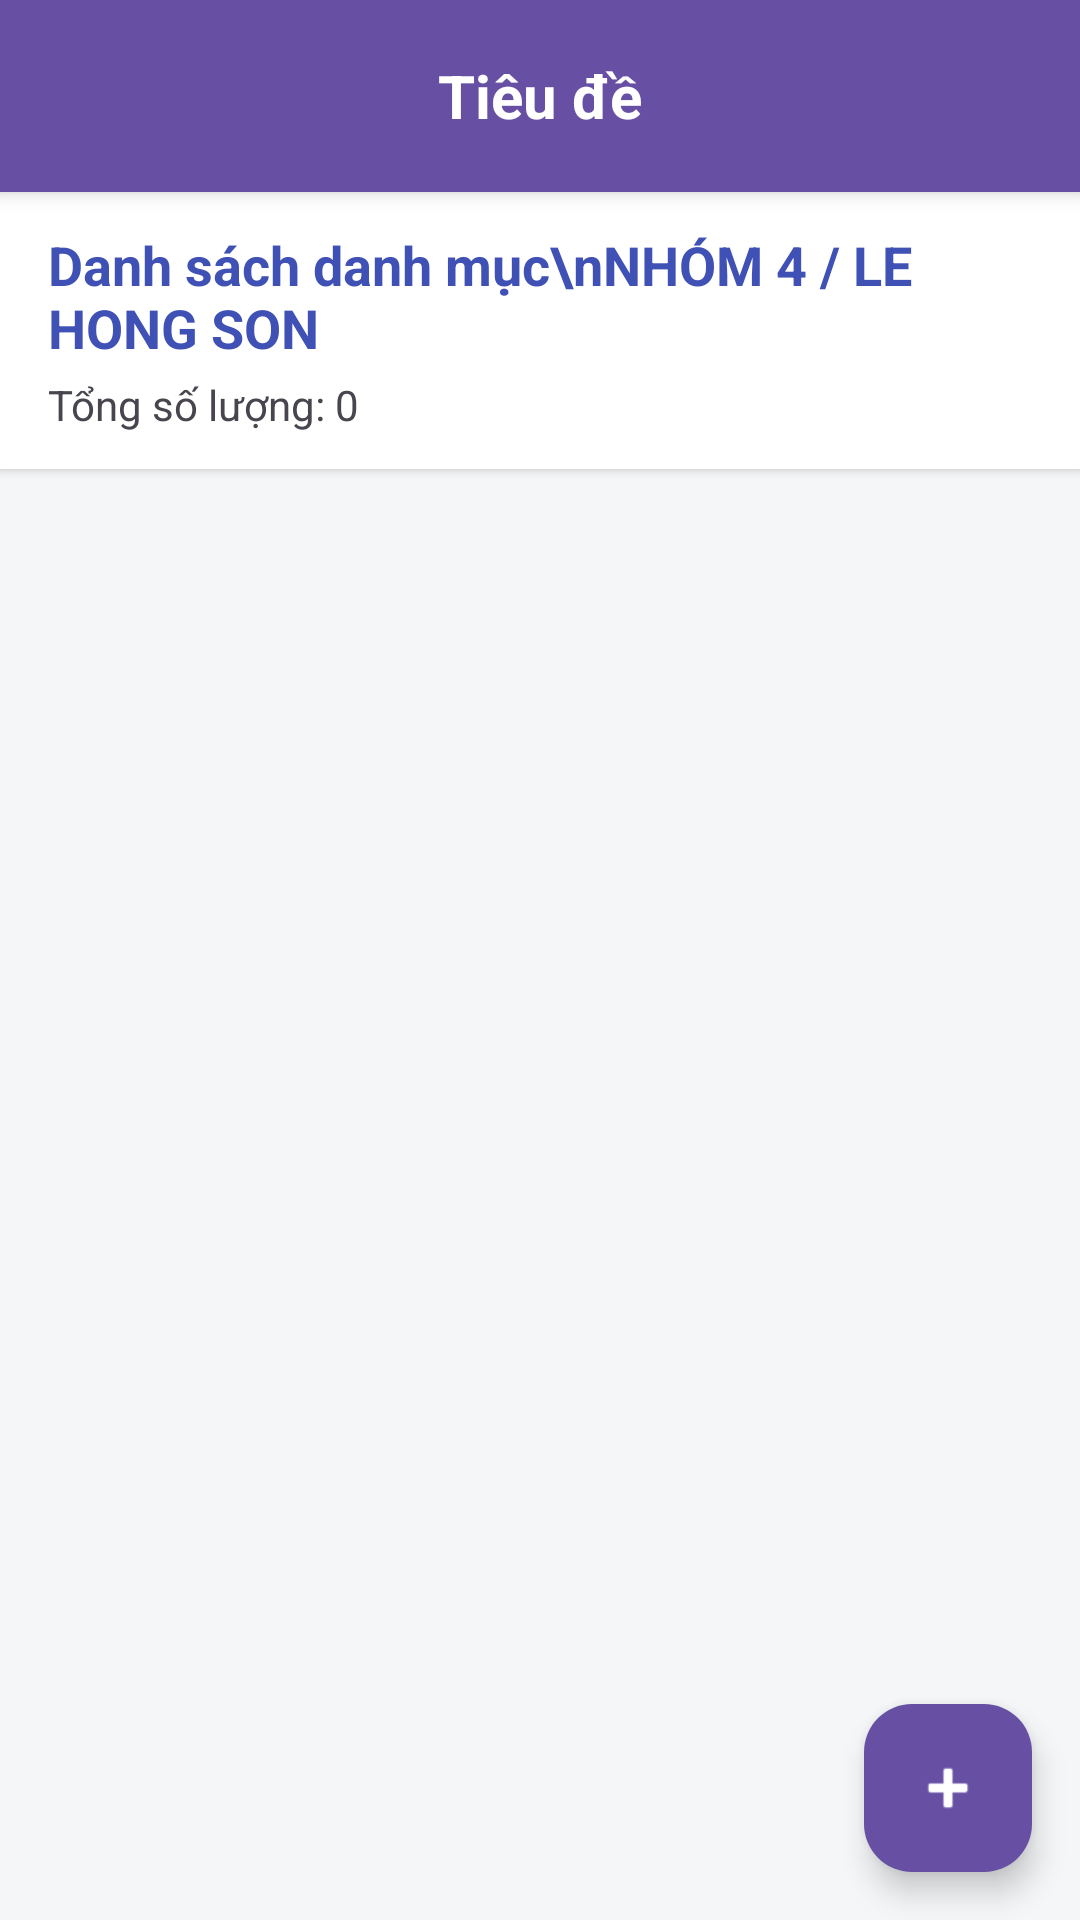

Icons on this 1080px×1920px Android screen, each with its box as region(x1, y1, x2, y2):
Thêm danh mục mới: region(864, 1704, 1032, 1872)
